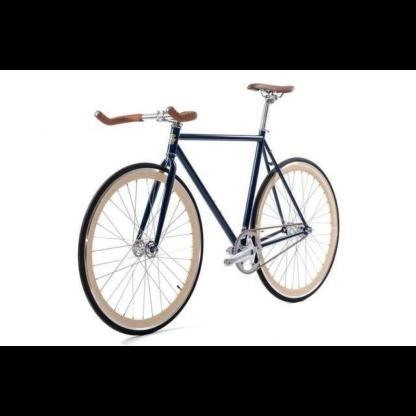Bicycle: (63, 77, 356, 341)
